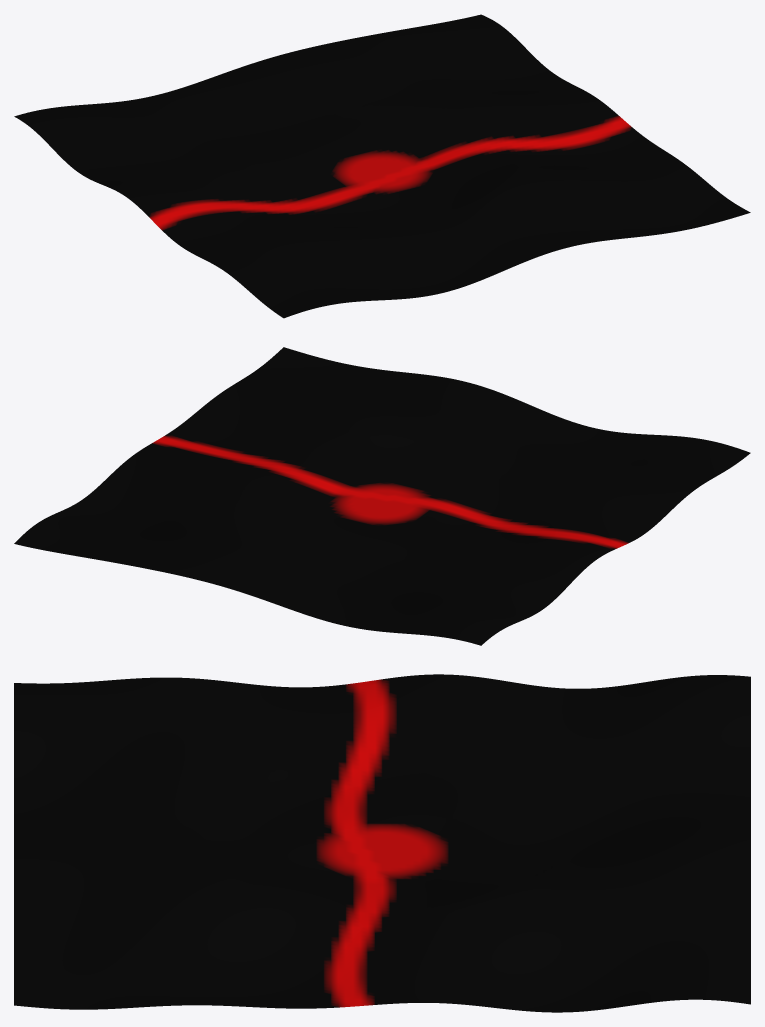
Rendered from SM_MeadowTerrain.fbx.
3 views of the same model, one above another, from view 1: azimuth 30°, elevation 25°; view 2: azimuth 150°, elevation 25°; view 3: azimuth 270°, elevation 25° (orthographic). The views are drawn at different scales.
Visible parts, largest first — view 1: SM_MeadowTerrain; view 2: SM_MeadowTerrain; view 3: SM_MeadowTerrain.
Part boxes in pixels (<box>): SM_MeadowTerrain: <box>14,14,750,318</box>; SM_MeadowTerrain: <box>14,347,750,645</box>; SM_MeadowTerrain: <box>14,674,750,1012</box>.
Size of the model in its own units: 10000 by 10000 by 456.
